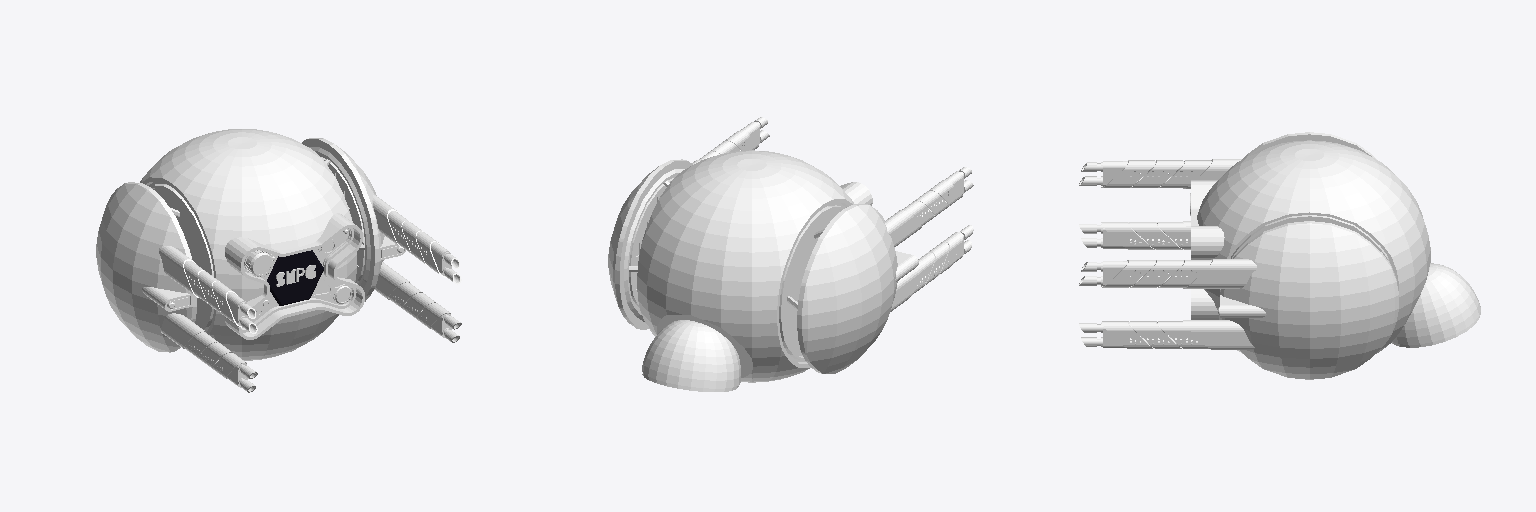
Rendered from droneOblivion.obj.
3 renders of one model, left to right at view 1: azimuth 30°, elevation 25°; view 2: azimuth 150°, elevation 25°; view 3: azimuth 270°, elevation 25°, orthographic.
Parts seen in each view (by area): view 1: Mesh96 Group_108_1 Model, Mesh67 Group68 Group67 Group63 Group57 Group_108_1 Model, Mesh68 Group67 Group63 Group57 Group_108_1 Model, Mesh1 Group1 Group_108_1 Model, Mesh85 Group82 Group78 Group72 Group_108_1 Model, Mesh3 Group3 Group_108_1 Model, Mesh72 Group71 Component_8_2 Group69 Group63 Group57 Group_108_1, Mesh65 Group66 Component_8_1 Group64 Group63 Group57 Group_108_1, Mesh62 Group65 Group64 Group63 Group57 Group_108_1 Model, Mesh79 Group80 Group79 Group78 Group72 Group_108_1 Model, Mesh89 Group86 Component_8_4 Group84 Group78 Group72 Group_108_1, Mesh82 Group81 Component_8_3 Group79 Group78 Group72 Group_108_1 (+2 smaller); view 2: Mesh96 Group_108_1 Model, Mesh68 Group67 Group63 Group57 Group_108_1 Model, Mesh91 Group87 Group_108_1 Model, Mesh85 Group82 Group78 Group72 Group_108_1 Model, Mesh67 Group68 Group67 Group63 Group57 Group_108_1 Model, Mesh65 Group66 Component_8_1 Group64 Group63 Group57 Group_108_1, Mesh72 Group71 Component_8_2 Group69 Group63 Group57 Group_108_1; view 3: Mesh96 Group_108_1 Model, Mesh85 Group82 Group78 Group72 Group_108_1 Model, Mesh84 Group83 Group82 Group78 Group72 Group_108_1 Model, Mesh91 Group87 Group_108_1 Model, Mesh1 Group1 Group_108_1 Model, Mesh89 Group86 Component_8_4 Group84 Group78 Group72 Group_108_1, Mesh82 Group81 Component_8_3 Group79 Group78 Group72 Group_108_1, Mesh62 Group65 Group64 Group63 Group57 Group_108_1 Model, Mesh79 Group80 Group79 Group78 Group72 Group_108_1 Model, Mesh68 Group67 Group63 Group57 Group_108_1 Model, Mesh69 Group70 Group69 Group63 Group57 Group_108_1 Model, Mesh83 Component_9_9 Group79 Group78 Group72 Group_108_1 Model (+13 smaller).
Boxes of the visible parts, x1=… form: Mesh96 Group_108_1 Model: x1=140, y1=129, x2=356, y2=360; Mesh67 Group68 Group67 Group63 Group57 Group_108_1 Model: x1=100, y1=218, x2=192, y2=334; Mesh68 Group67 Group63 Group57 Group_108_1 Model: x1=96, y1=182, x2=196, y2=352; Mesh1 Group1 Group_108_1 Model: x1=225, y1=213, x2=364, y2=339; Mesh85 Group82 Group78 Group72 Group_108_1 Model: x1=302, y1=138, x2=381, y2=301; Mesh3 Group3 Group_108_1 Model: x1=241, y1=228, x2=356, y2=332; Mesh72 Group71 Component_8_2 Group69 Group63 Group57 Group_108_1: x1=160, y1=313, x2=206, y2=348; Mesh65 Group66 Component_8_1 Group64 Group63 Group57 Group_108_1: x1=159, y1=246, x2=198, y2=297; Mesh62 Group65 Group64 Group63 Group57 Group_108_1 Model: x1=189, y1=276, x2=257, y2=333; Mesh79 Group80 Group79 Group78 Group72 Group_108_1 Model: x1=393, y1=227, x2=461, y2=284; Mesh89 Group86 Component_8_4 Group84 Group78 Group72 Group_108_1: x1=374, y1=262, x2=409, y2=299; Mesh82 Group81 Component_8_3 Group79 Group78 Group72 Group_108_1: x1=373, y1=195, x2=403, y2=248; Mesh96 Group_108_1 Model: x1=637, y1=150, x2=853, y2=382; Mesh68 Group67 Group63 Group57 Group_108_1 Model: x1=797, y1=204, x2=886, y2=373; Mesh91 Group87 Group_108_1 Model: x1=642, y1=320, x2=740, y2=391; Mesh85 Group82 Group78 Group72 Group_108_1 Model: x1=608, y1=159, x2=692, y2=329; Mesh67 Group68 Group67 Group63 Group57 Group_108_1 Model: x1=852, y1=220, x2=918, y2=349; Mesh65 Group66 Component_8_1 Group64 Group63 Group57 Group_108_1: x1=885, y1=210, x2=921, y2=246; Mesh72 Group71 Component_8_2 Group69 Group63 Group57 Group_108_1: x1=890, y1=261, x2=922, y2=311; Mesh96 Group_108_1 Model: x1=1197, y1=140, x2=1430, y2=353; Mesh85 Group82 Group78 Group72 Group_108_1 Model: x1=1220, y1=221, x2=1398, y2=379; Mesh84 Group83 Group82 Group78 Group72 Group_108_1 Model: x1=1218, y1=257, x2=1341, y2=357; Mesh91 Group87 Group_108_1 Model: x1=1392, y1=263, x2=1480, y2=347; Mesh1 Group1 Group_108_1 Model: x1=1191, y1=180, x2=1224, y2=319; Mesh89 Group86 Component_8_4 Group84 Group78 Group72 Group_108_1: x1=1183, y1=320, x2=1254, y2=349; Mesh82 Group81 Component_8_3 Group79 Group78 Group72 Group_108_1: x1=1183, y1=259, x2=1256, y2=288; Mesh62 Group65 Group64 Group63 Group57 Group_108_1 Model: x1=1079, y1=161, x2=1192, y2=186; Mesh79 Group80 Group79 Group78 Group72 Group_108_1 Model: x1=1079, y1=261, x2=1192, y2=285; Mesh68 Group67 Group63 Group57 Group_108_1 Model: x1=1242, y1=132, x2=1376, y2=159; Mesh69 Group70 Group69 Group63 Group57 Group_108_1 Model: x1=1079, y1=222, x2=1187, y2=248; Mesh83 Component_9_9 Group79 Group78 Group72 Group_108_1 Model: x1=1130, y1=260, x2=1183, y2=287.
Bounding box in the file's own units: 4291 × 3244 × 5824.